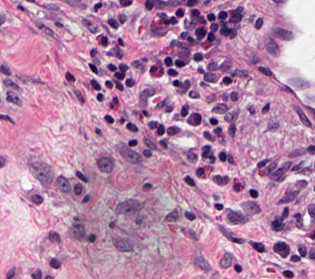nucleus: (32, 162, 52, 183), (115, 199, 139, 214), (293, 105, 310, 126), (271, 162, 290, 179), (278, 188, 299, 203), (122, 148, 140, 163), (265, 38, 279, 56), (227, 210, 246, 223), (272, 27, 292, 39), (97, 157, 113, 172), (273, 242, 289, 257), (241, 201, 259, 214), (289, 78, 309, 89), (114, 239, 132, 251), (57, 176, 70, 192), (194, 257, 210, 270), (261, 162, 276, 174), (187, 113, 201, 125), (140, 88, 154, 99), (73, 224, 84, 238), (250, 241, 264, 252), (220, 253, 231, 267), (288, 148, 305, 157), (213, 175, 228, 185), (212, 104, 227, 113), (49, 231, 60, 242), (144, 139, 156, 149), (166, 211, 178, 221), (74, 89, 83, 102), (294, 213, 302, 227), (195, 27, 205, 38), (76, 171, 87, 181), (272, 220, 283, 230), (204, 73, 216, 82), (167, 126, 179, 135), (258, 67, 271, 75), (220, 60, 230, 70), (224, 112, 235, 121), (184, 211, 195, 220), (296, 180, 306, 189), (257, 159, 268, 167), (228, 124, 235, 136), (308, 203, 314, 217), (298, 244, 305, 256), (188, 152, 197, 161), (185, 176, 194, 185), (50, 259, 59, 268), (127, 123, 137, 131), (292, 162, 302, 170), (32, 195, 42, 203), (182, 80, 189, 91), (181, 105, 188, 116), (281, 208, 288, 219), (193, 53, 202, 61), (89, 64, 97, 73), (66, 72, 74, 81), (91, 80, 99, 89), (189, 90, 198, 98), (204, 132, 213, 140), (32, 270, 41, 278), (207, 63, 217, 70), (74, 184, 81, 194), (229, 237, 243, 242), (283, 270, 293, 277), (203, 149, 211, 157), (249, 189, 257, 197), (115, 72, 124, 79), (157, 125, 164, 134), (164, 57, 171, 65), (119, 64, 127, 71), (223, 77, 231, 84), (126, 79, 134, 86), (230, 92, 237, 100), (262, 104, 269, 112), (105, 115, 113, 122), (148, 121, 156, 128), (219, 152, 226, 160), (196, 168, 203, 176), (143, 183, 151, 190), (233, 183, 240, 191), (175, 60, 184, 66), (168, 69, 177, 75), (291, 255, 300, 261), (101, 37, 107, 45), (116, 82, 122, 90), (128, 140, 136, 146), (160, 140, 166, 148), (308, 145, 314, 153), (143, 150, 151, 156), (227, 155, 233, 163), (310, 248, 314, 259), (208, 33, 214, 40), (108, 64, 115, 70), (173, 80, 180, 86), (210, 118, 217, 124), (83, 195, 89, 202), (215, 203, 222, 209), (88, 235, 95, 241), (234, 265, 241, 271), (106, 81, 112, 87), (214, 128, 220, 134), (150, 66, 155, 73), (97, 94, 102, 101), (209, 155, 214, 162), (187, 37, 193, 42), (91, 49, 95, 56), (118, 39, 123, 44), (203, 146, 209, 150), (181, 33, 186, 37), (198, 68, 203, 72), (250, 108, 254, 113), (143, 111, 147, 115), (96, 129, 100, 133), (223, 94, 226, 99), (110, 223, 113, 227), (45, 276, 51, 278)
